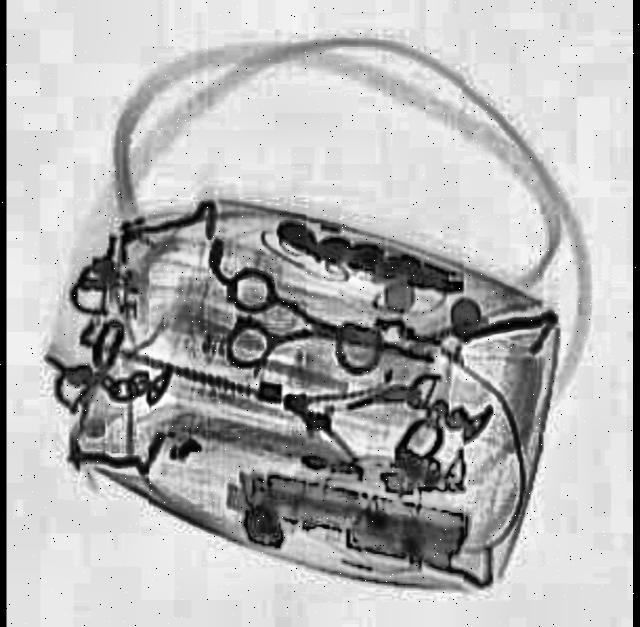Scissors: (211, 266, 438, 412)
